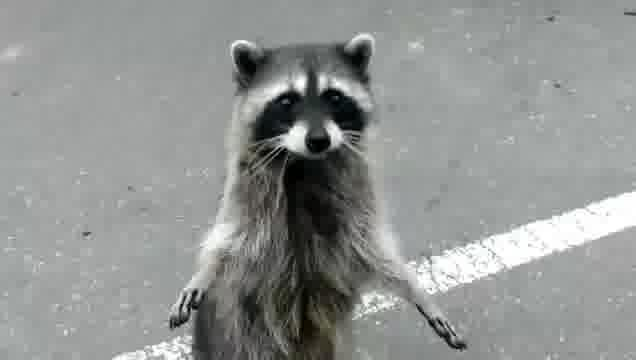raccoon: (167, 34, 469, 360)
